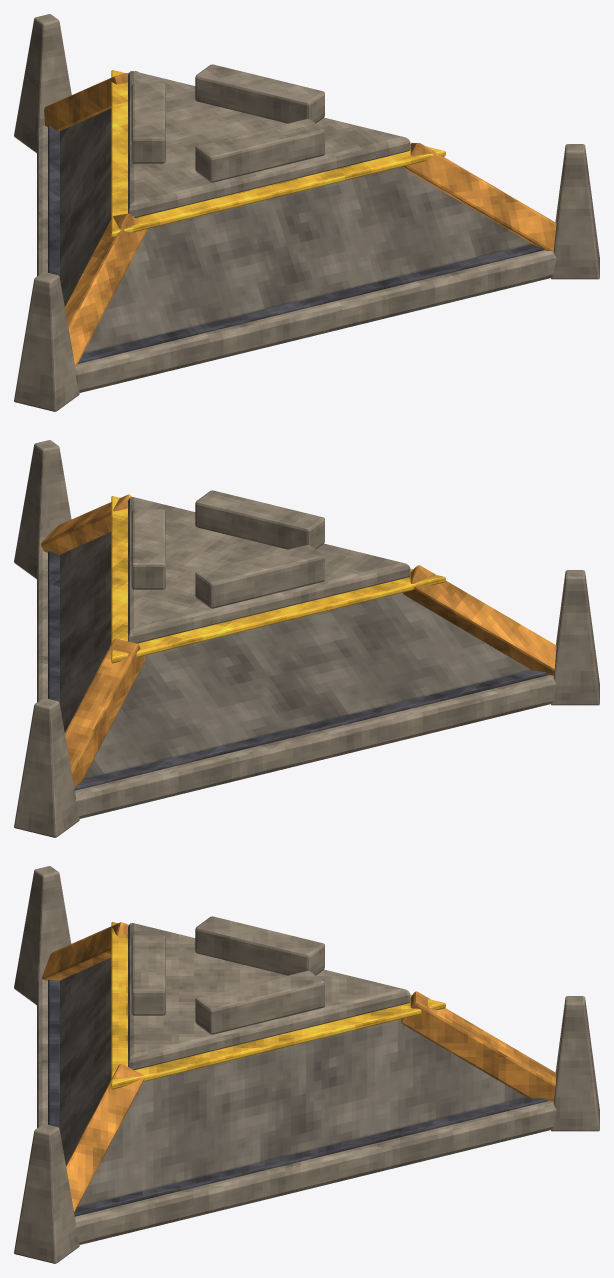
File: base_triangle.gltf
3 renders of one model, top to bottom at view 1: azimuth 30°, elevation 25°; view 2: azimuth 150°, elevation 25°; view 3: azimuth 270°, elevation 25°, orthographic.
Visible parts, largest first — view 1: base_triangle_stone, base_triangle_stone_lite, Tier3_stone_lite, base_triangle_brass, Tier4_gold, Tier2_iron; view 2: base_triangle_stone, base_triangle_stone_lite, Tier3_stone_lite, base_triangle_brass, Tier4_gold, Tier2_iron; view 3: base_triangle_stone, base_triangle_stone_lite, Tier3_stone_lite, base_triangle_brass, Tier4_gold, Tier2_iron.
Boxes of the visible parts, x1,y1,x2,y2 form: base_triangle_stone: (60, 108, 531, 353); base_triangle_stone_lite: (37, 71, 556, 392); Tier3_stone_lite: (14, 14, 599, 411); base_triangle_brass: (44, 71, 556, 366); Tier4_gold: (111, 70, 445, 237); Tier2_iron: (48, 125, 544, 363); base_triangle_stone: (60, 532, 530, 779); base_triangle_stone_lite: (37, 497, 556, 818); Tier3_stone_lite: (14, 440, 599, 837); base_triangle_brass: (41, 494, 556, 787); Tier4_gold: (111, 496, 445, 663); Tier2_iron: (48, 551, 548, 790); base_triangle_stone: (60, 958, 526, 1206); base_triangle_stone_lite: (37, 923, 556, 1244); Tier3_stone_lite: (14, 866, 599, 1263); base_triangle_brass: (41, 922, 555, 1212); Tier4_gold: (111, 922, 445, 1089); Tier2_iron: (48, 979, 547, 1216).
Bounding box in the file's own units: 1.38 × 0.36 × 1.2.
5 materials, 5 textured.
